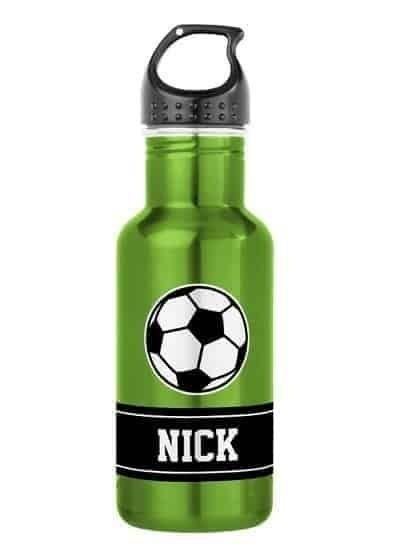gym bottle: (114, 25, 274, 533)
